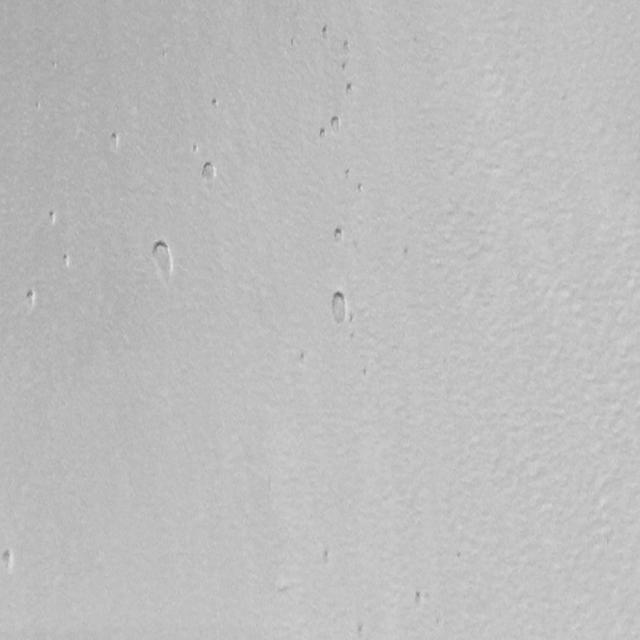pin holes: (148, 238, 177, 282), (327, 288, 351, 326), (198, 160, 219, 188), (1, 547, 19, 575), (22, 286, 40, 311), (296, 349, 311, 371), (331, 226, 347, 246), (411, 589, 427, 608), (109, 130, 124, 150), (47, 209, 61, 230), (320, 547, 335, 565), (59, 252, 72, 272), (354, 622, 370, 638), (329, 115, 344, 132), (318, 24, 331, 42), (344, 82, 356, 99), (208, 95, 220, 112), (316, 128, 328, 144), (341, 40, 353, 56), (340, 59, 352, 75), (401, 244, 413, 260), (288, 36, 300, 52), (356, 184, 368, 198), (191, 141, 202, 154), (31, 100, 42, 113), (343, 166, 353, 180)
